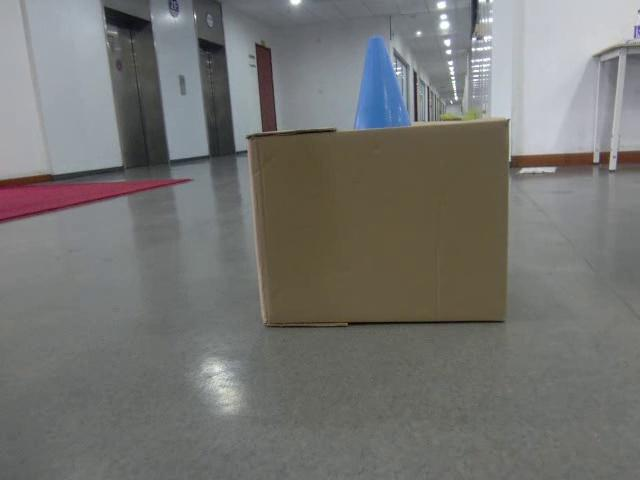blue_barrel: (353, 35, 410, 128)
